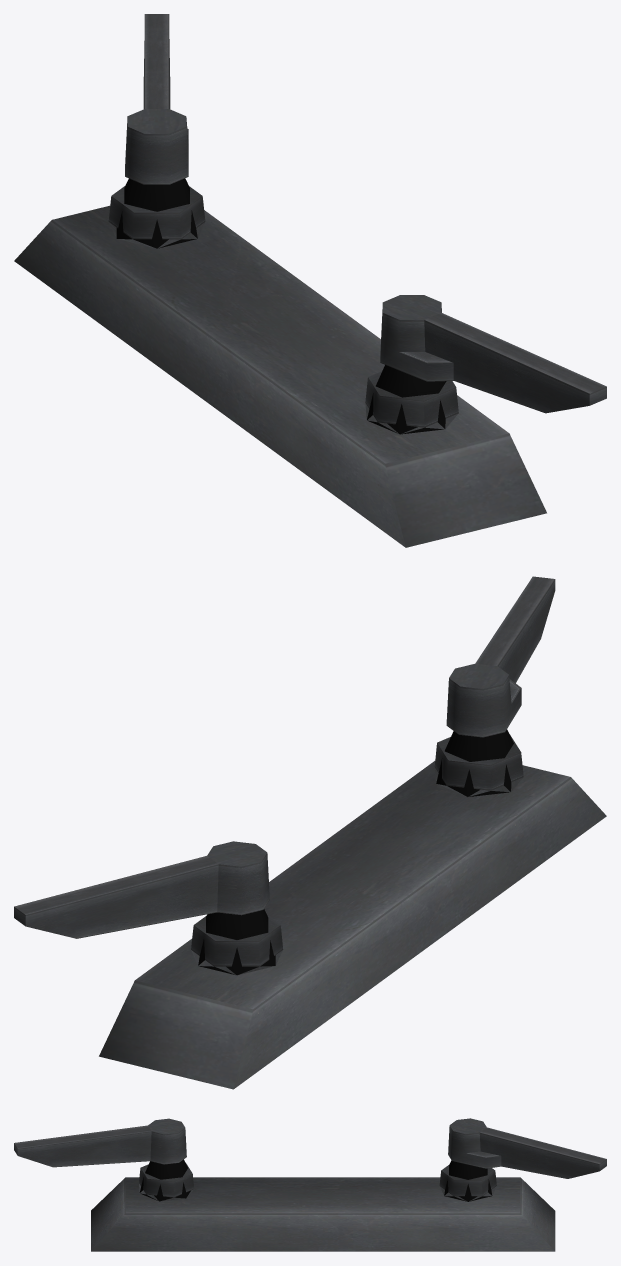
Rendered from p6_kitchen_sink_faucet_handles_lod0.glb.
3 views of the same model, one above another, from view 1: azimuth 30°, elevation 25°; view 2: azimuth 150°, elevation 25°; view 3: azimuth 270°, elevation 25° (orthographic). The views are drawn at different scales.
Parts seen in each view (by area): view 1: surf1, surf0; view 2: surf1, surf0; view 3: surf1, surf0.
Boxes of the visible parts, x1,y1,x2,y2 form: surf1: [14, 14, 606, 547]; surf0: [116, 178, 446, 434]; surf1: [14, 576, 606, 1089]; surf0: [198, 729, 513, 975]; surf1: [14, 1118, 606, 1251]; surf0: [139, 1159, 492, 1201].
Size of the model in its own units: 1.79 by 1.56 by 8.03.
